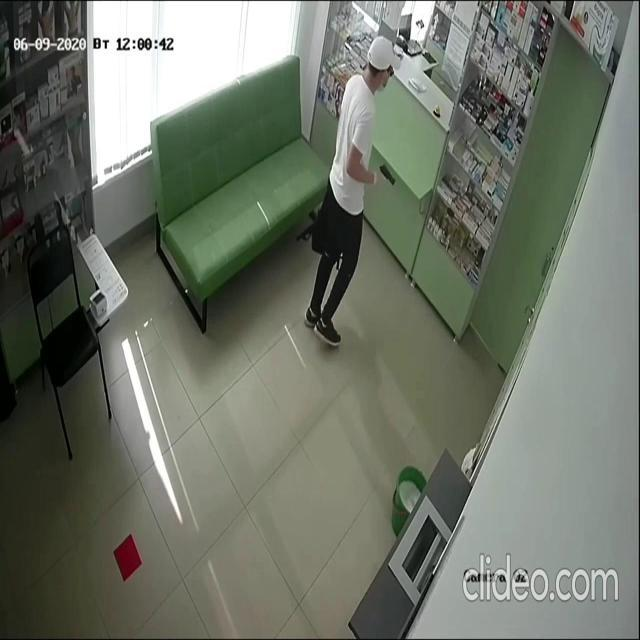pistol: (379, 162, 396, 186)
